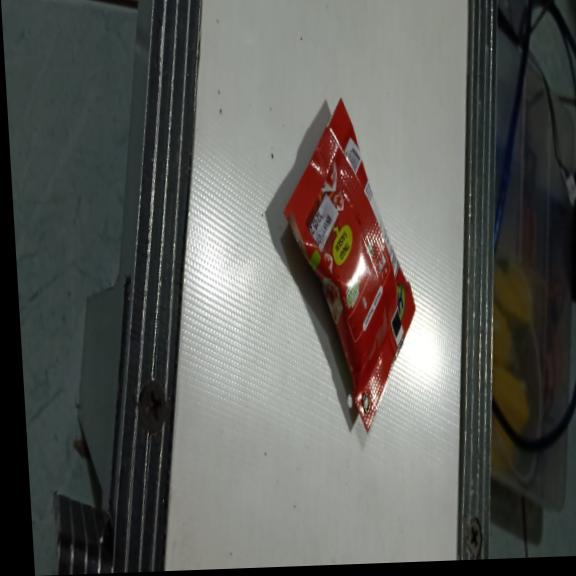Plastik: (276, 92, 422, 439)
